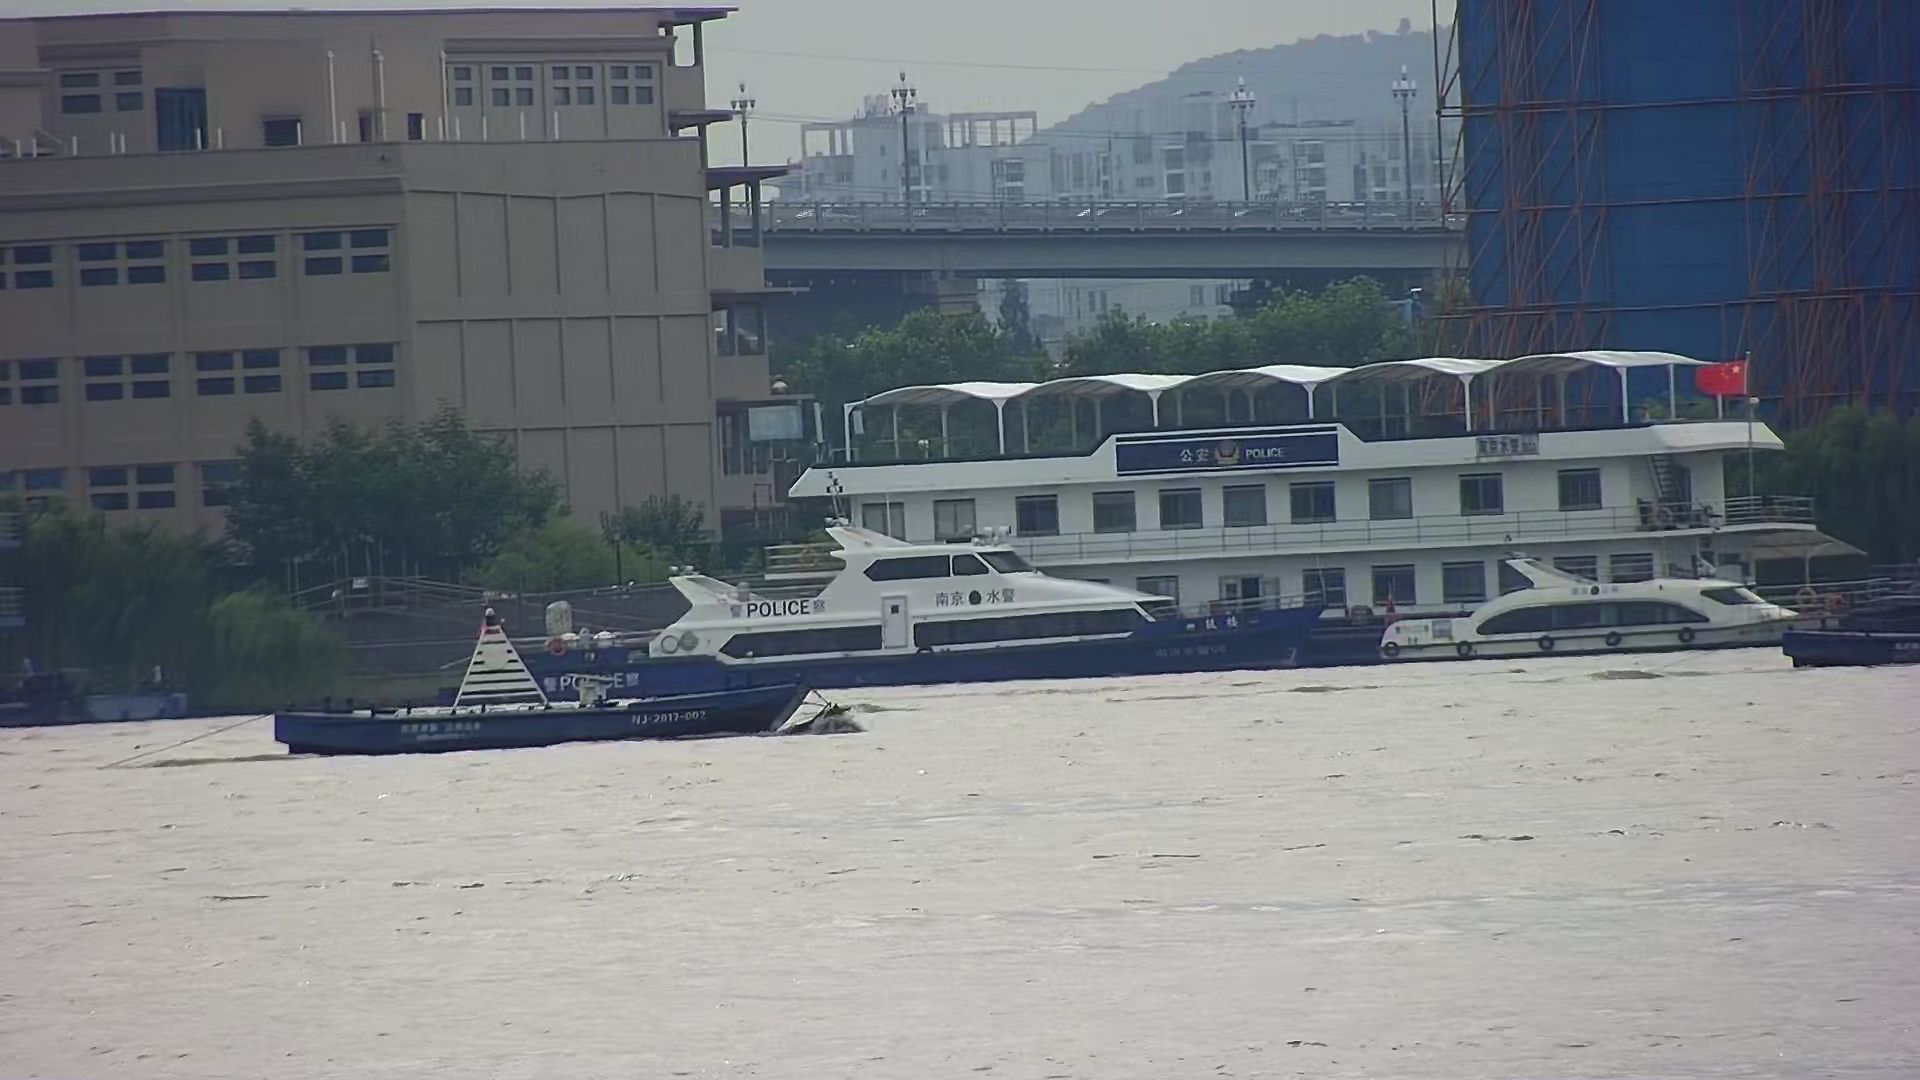boat: (430, 588, 1437, 709), (255, 585, 887, 775), (608, 509, 1178, 673), (1379, 547, 1833, 671)
